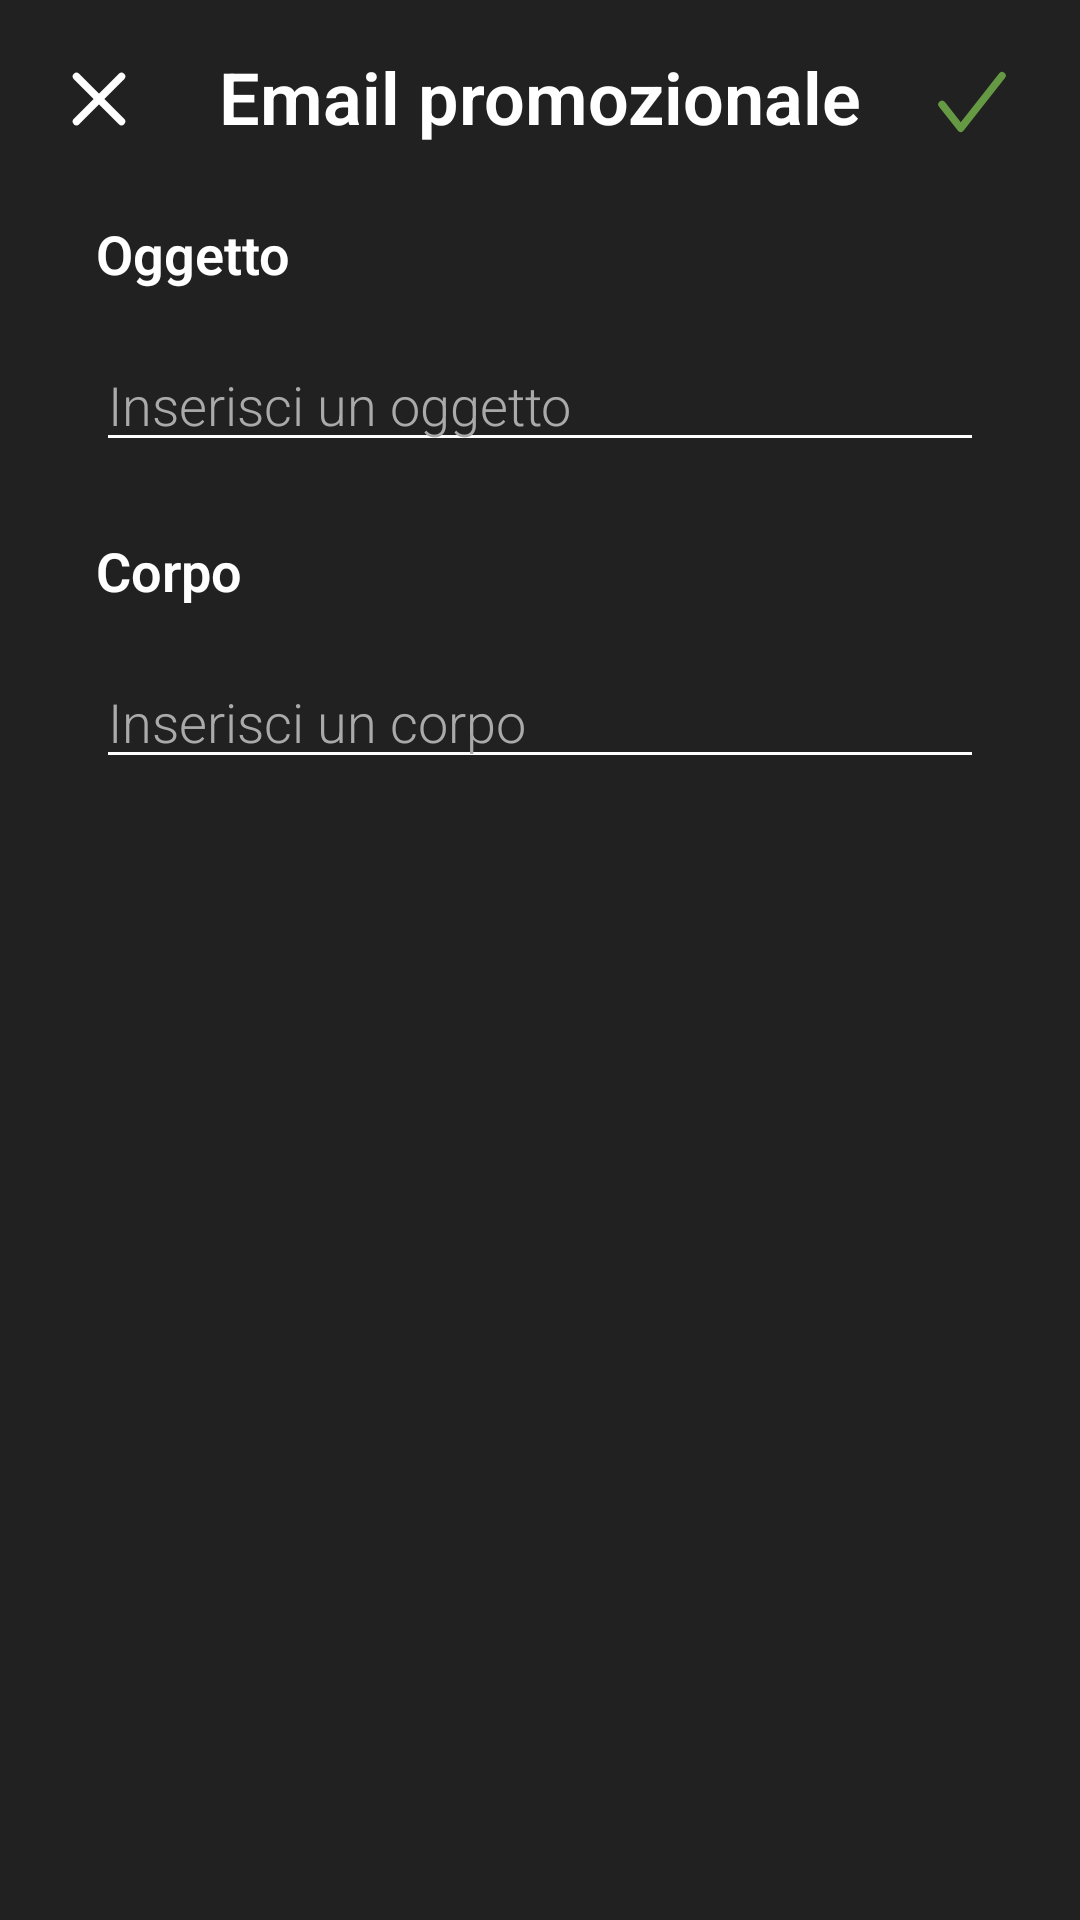

Locate icon controls on the screen. Image size 1080px×1920px, boxes as (x1, y1, x2, y2).
check: (938, 72, 1006, 132)
cross: (72, 72, 126, 126)
